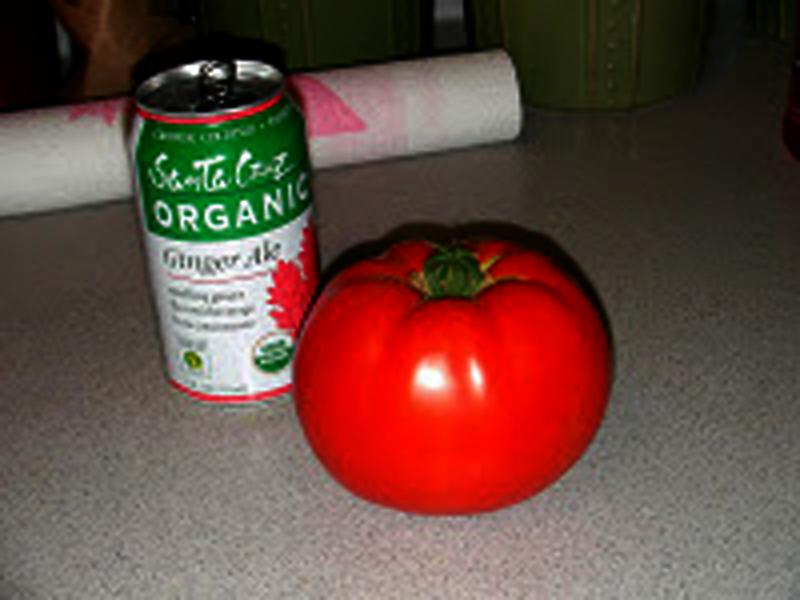Tomato: (296, 240, 608, 512)
